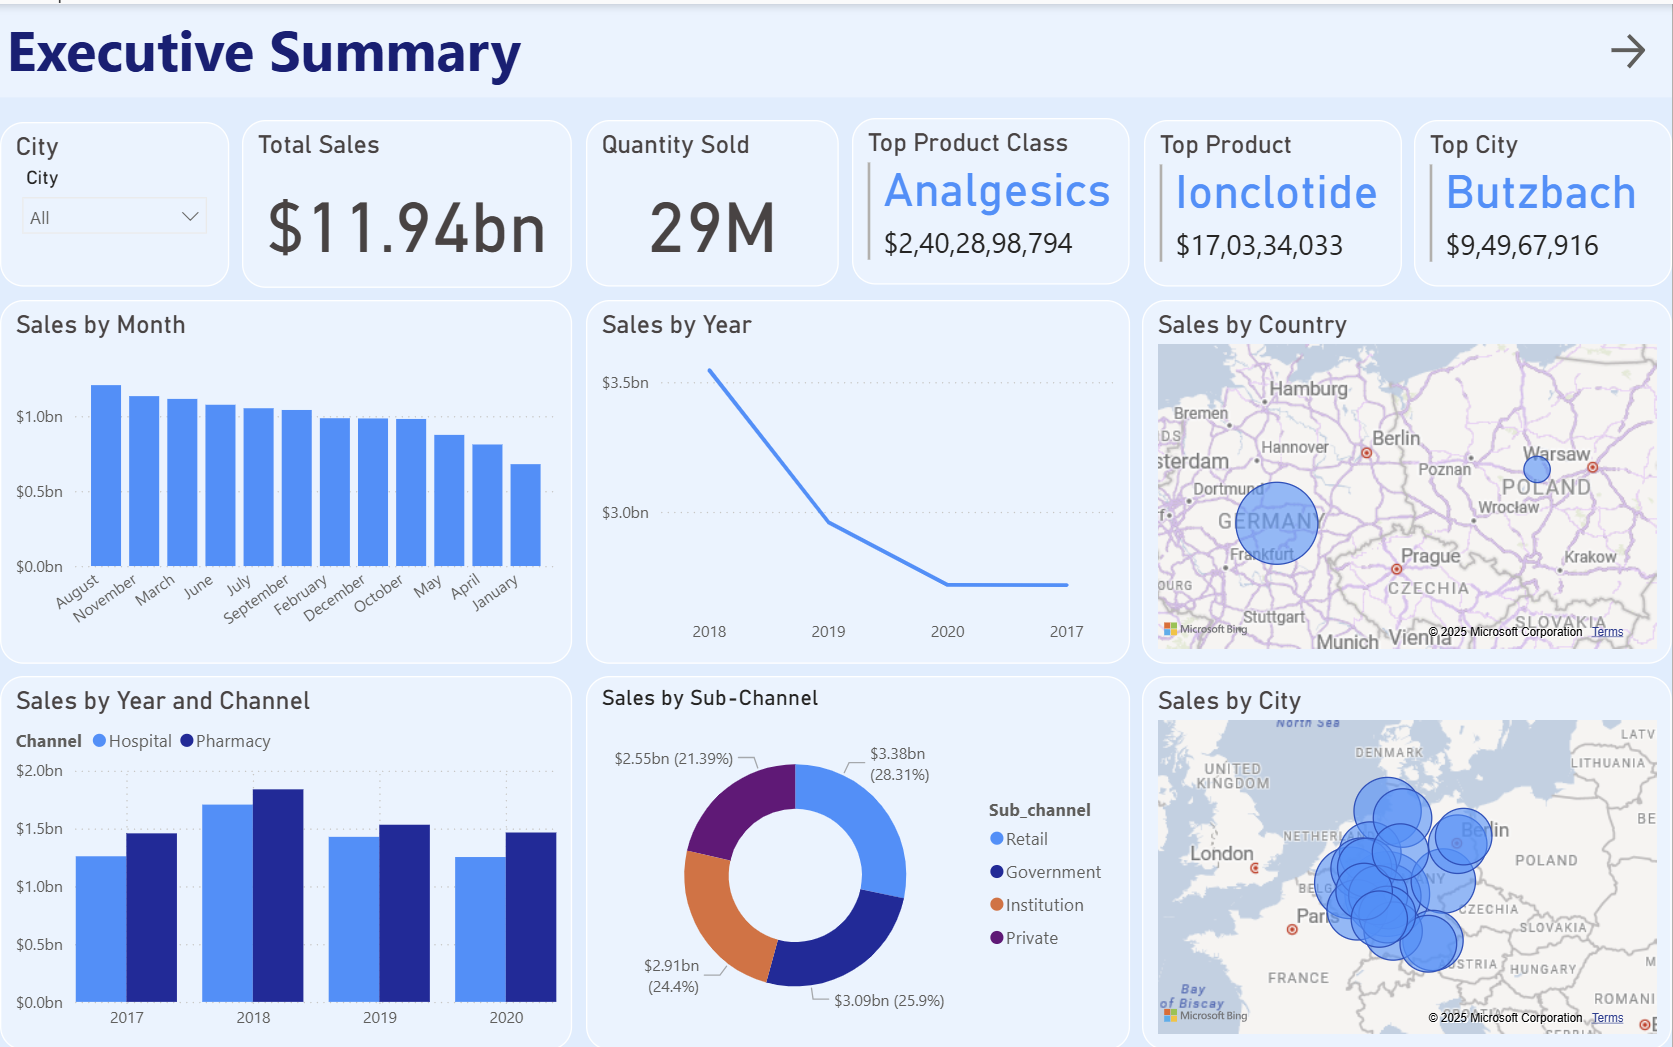

What the dashboard file says about the page in this screenshot:
{"tool":"powerbi","page":{"name":"Executive Summary","canvas":[1280,800],"ordinal":1},"visuals":[{"type":"textbox","box":[0,0,1280.3,71.4],"z":0},{"type":"actionButton","box":[1228.1,17.8,38.4,35.7],"z":1000},{"type":"card","title":"Total Sales","fields":{"Values":["Sum(fact_sales.Sales)"]},"box":[185.3,88.8,252.6,128.6],"z":2000},{"type":"multiRowCard","title":"Top Product","fields":{"Values":["dim_product.Product_Name","Sum(fact_sales.Sales)"]},"box":[875.5,89.2,197.6,127.6],"z":3000},{"type":"multiRowCard","title":"Top Product Class","fields":{"Values":["dim_product.Product_Class","Sum(fact_sales.Sales)"]},"box":[651.8,87.8,212.7,127.6],"z":4000},{"type":"card","title":"Quantity Sold","fields":{"Values":["Sum(fact_sales.Quantity)"]},"box":[448.7,89.2,193.5,127.6],"z":5000},{"type":"multiRowCard","title":"Top City","fields":{"Values":["dim_city.City","Sum(fact_sales.Sales)"]},"box":[1082.7,89.2,197.6,127.6],"z":6000},{"type":"lineChart","title":"Sales by Year","fields":{"Y":["Sum(fact_sales.Sales)"],"Category":["fact_sales.Year"]},"box":[448.6,226.6,416.5,278.7],"z":7000},{"type":"clusteredColumnChart","title":"Sales by Month","fields":{"Category":["dim_month.Month"],"Y":["Sum(fact_sales.Sales)"]},"box":[0,226.6,437.9,278.7],"z":8000},{"type":"map","title":" Sales by Country","fields":{"Size":["Sum(fact_sales.Sales)"],"Category":["dim_country.Country"]},"box":[874.3,226.6,405.7,278.7],"z":9000},{"type":"map","title":" Sales by City","fields":{"Size":["Sum(fact_sales.Sales)"],"Category":["dim_city.City"]},"box":[874.3,514.4,405.7,286.3],"z":10000},{"type":"donutChart","title":"Sales by Sub-Channel","fields":{"Category":["dim_subchannel.Sub_channel"],"Y":["Sum(fact_sales.Sales)"]},"box":[448.6,514.4,416.5,286.3],"z":11000},{"type":"slicer","title":"City","fields":{"Values":["dim_city.City"]},"box":[0,89.8,175.5,125.8],"z":12000},{"type":"clusteredColumnChart","title":"Sales by Year and Channel","fields":{"Y":["Sum(fact_sales.Sales)"],"Category":["fact_sales.Year"],"Series":["dim_channel.Channel"]},"box":[0,514.4,437.9,286.3],"z":13000}]}

Visuals, with their boxes in screenshot pixels (x1, y1, x2, y2), scaled from the page's 1280x800 canvas onto the 1673x1047 screenshot:
textbox: [0, 0, 1672, 93]
actionButton: [1605, 23, 1655, 70]
"Total Sales" card: [242, 116, 572, 285]
"Top Product" multiRowCard: [1144, 117, 1403, 284]
"Top Product Class" multiRowCard: [852, 115, 1130, 282]
"Quantity Sold" card: [586, 117, 839, 284]
"Top City" multiRowCard: [1415, 117, 1672, 284]
"Sales by Year" lineChart: [586, 297, 1131, 661]
"Sales by Month" clusteredColumnChart: [0, 297, 572, 661]
" Sales by Country" map: [1143, 297, 1672, 661]
" Sales by City" map: [1143, 673, 1672, 1046]
"Sales by Sub-Channel" donutChart: [586, 673, 1131, 1046]
"City" slicer: [0, 118, 229, 282]
"Sales by Year and Channel" clusteredColumnChart: [0, 673, 572, 1046]
